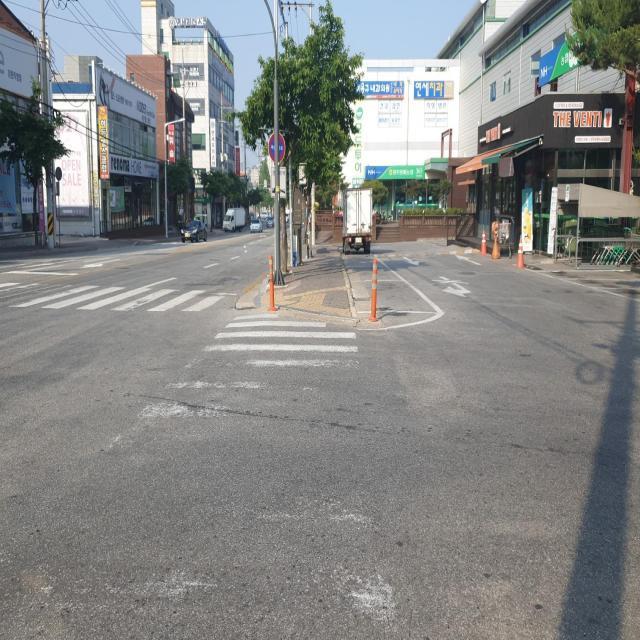횡단보도: (0, 310, 401, 640), (0, 283, 234, 312)
